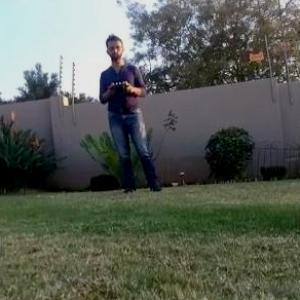follow: (94, 25, 168, 194)
